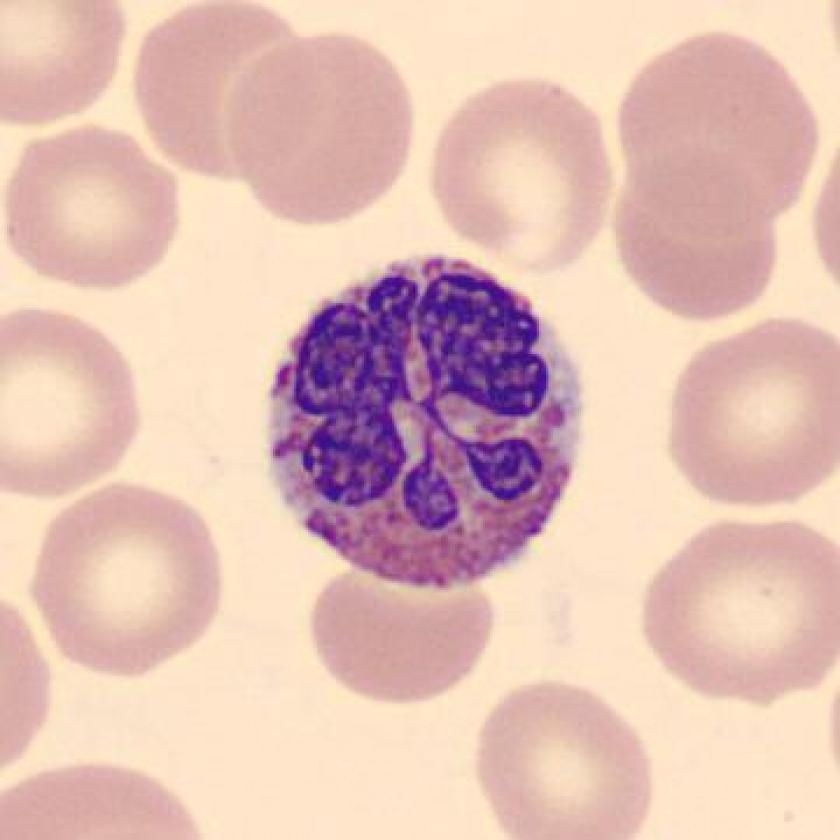eosinophil: (255, 244, 603, 603)
